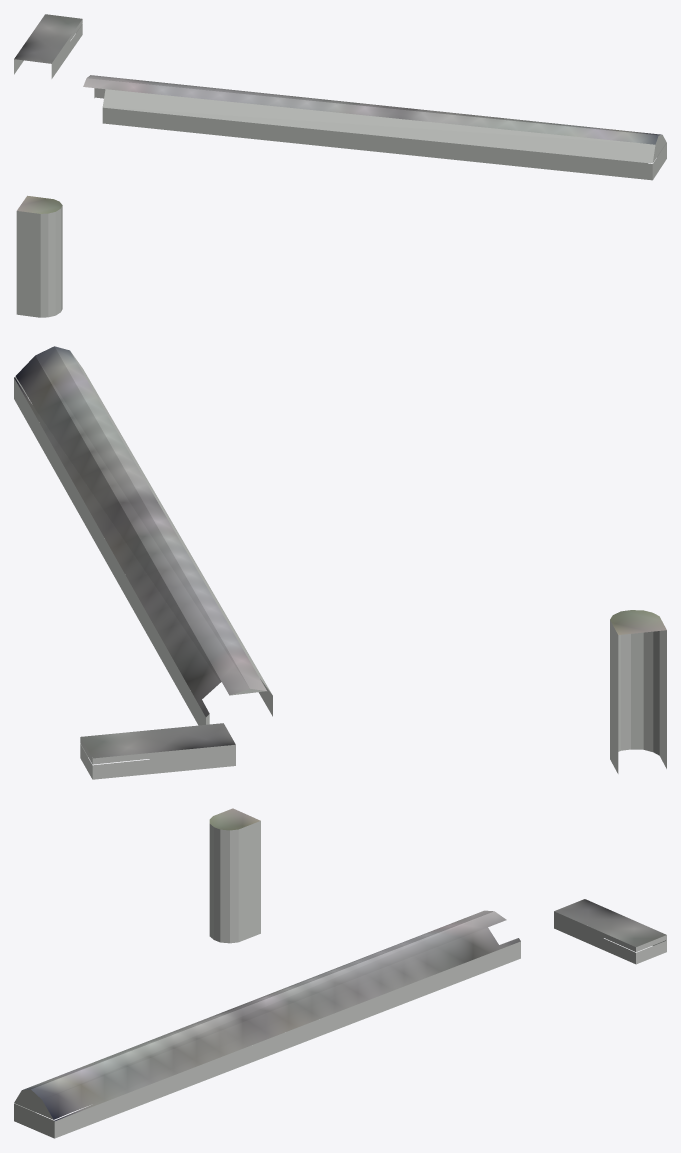
File: LSGG_1_-1.glb
The picture shows the model from 3 angles, top to bottom: view 1: azimuth 30°, elevation 25°; view 2: azimuth 150°, elevation 25°; view 3: azimuth 270°, elevation 25°; orthographic projection. The views are drawn at different scales.
Visible parts, largest first — view 1: building_9c570dcde435a274, building_f8d34ca42e88ac0f; view 2: building_9c570dcde435a274, building_f8d34ca42e88ac0f; view 3: building_9c570dcde435a274, building_f8d34ca42e88ac0f.
Boxes of the visible parts, bbox=[...] form: building_9c570dcde435a274: bbox=[14, 14, 661, 213]; building_f8d34ca42e88ac0f: bbox=[14, 19, 666, 317]; building_9c570dcde435a274: bbox=[14, 346, 666, 758]; building_f8d34ca42e88ac0f: bbox=[14, 377, 666, 779]; building_9c570dcde435a274: bbox=[22, 808, 666, 1121]; building_f8d34ca42e88ac0f: bbox=[14, 821, 666, 1138].
Size of the model in its own units: 113 by 21.48 by 103.
Materials: 2 (1 with a texture image).
